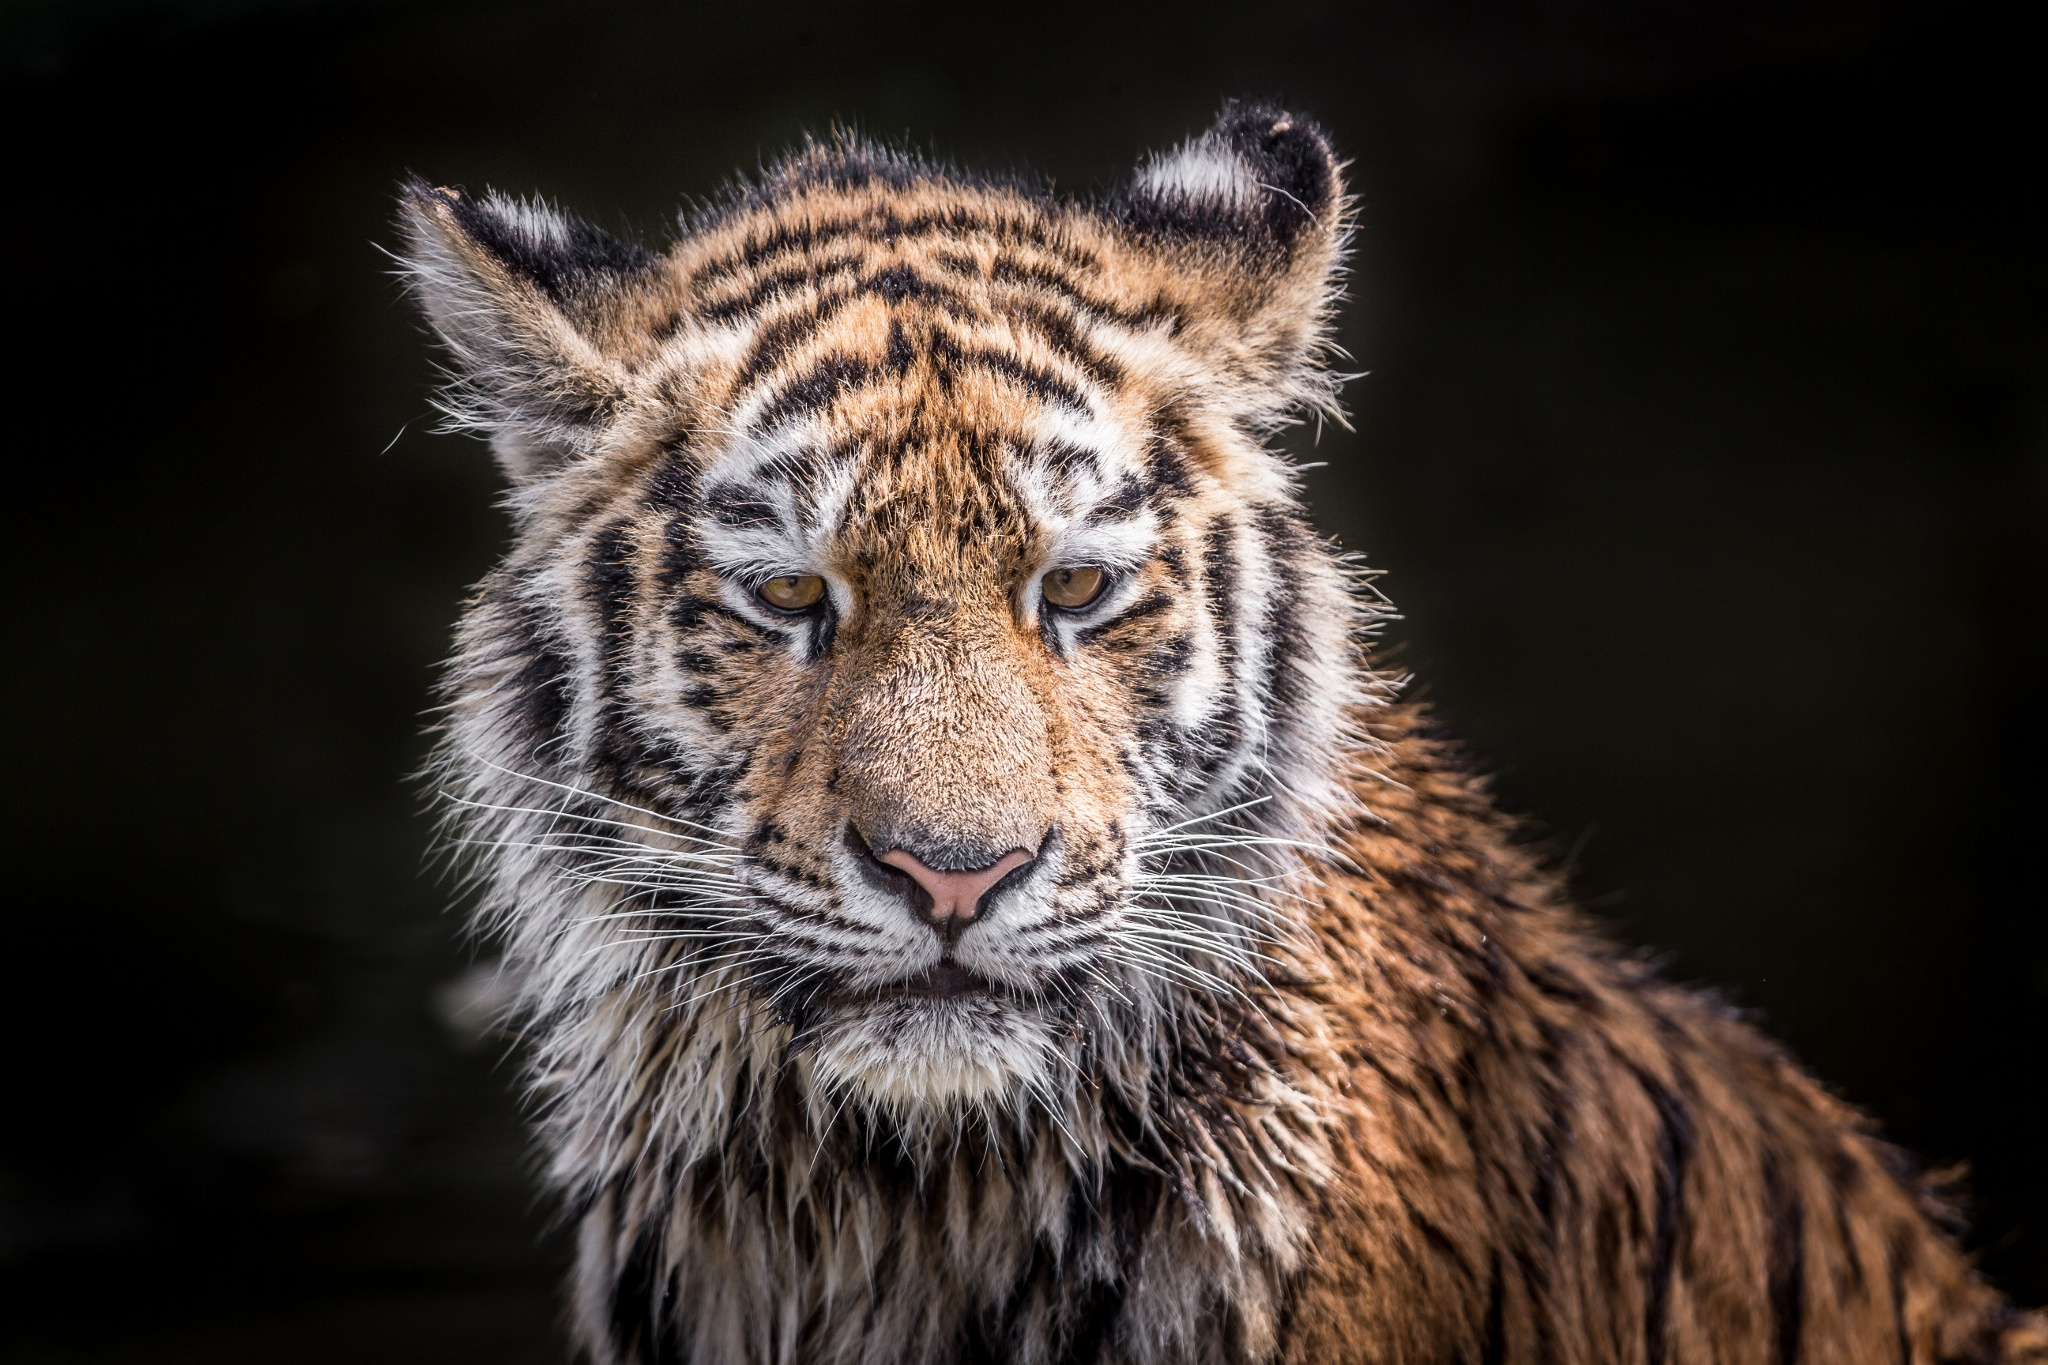tiger: (298, 123, 1871, 1347)
